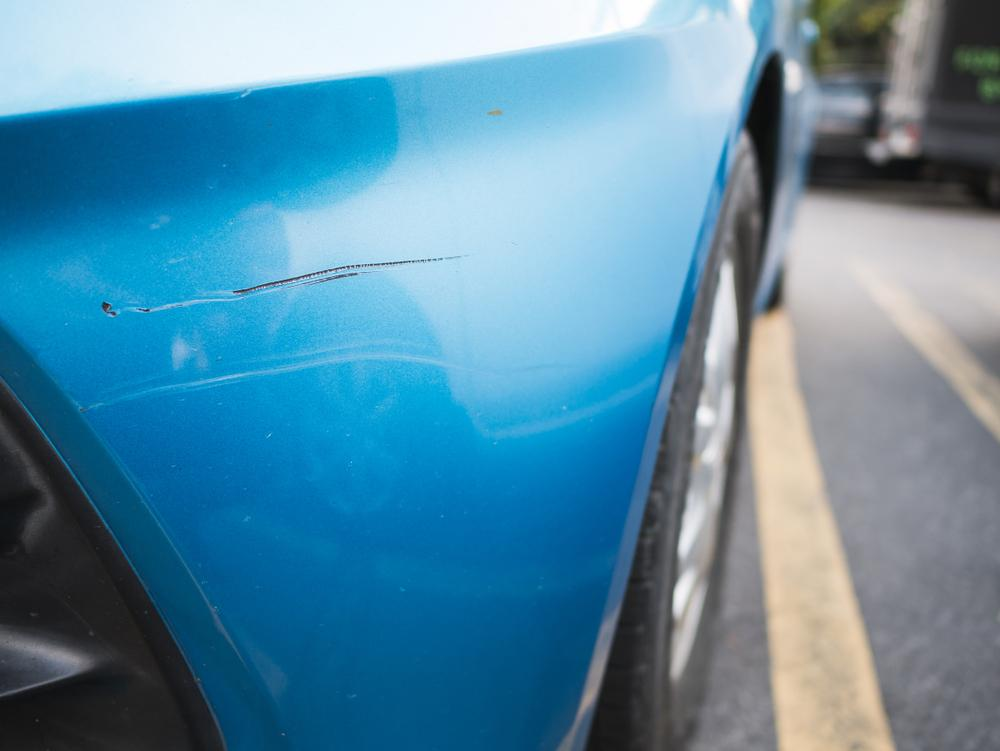scratch: (79, 247, 491, 415)
